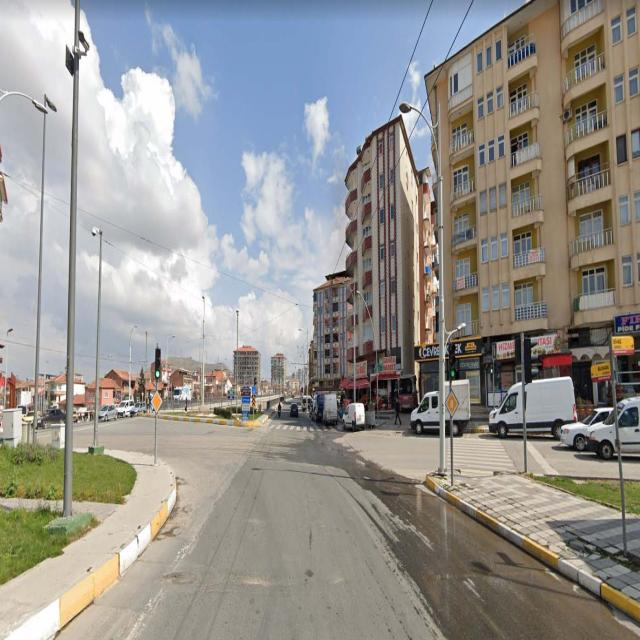yesil: (155, 368, 160, 379), (450, 368, 455, 378)
